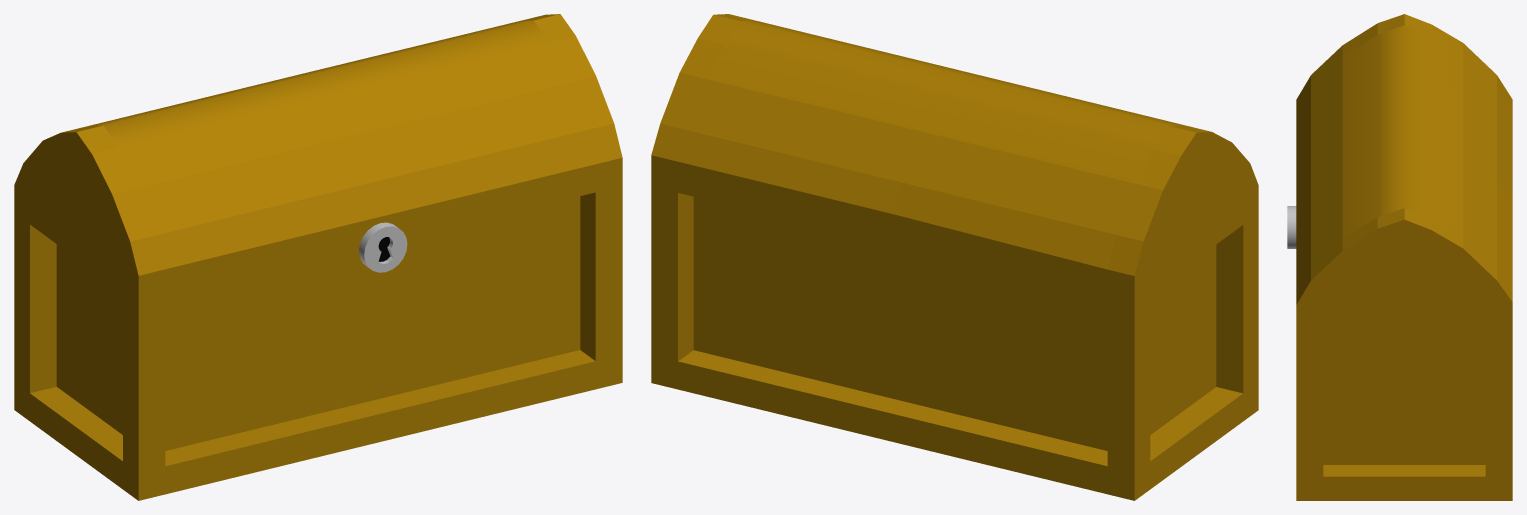
File: chest.fbx
3 renders of one model, left to right at view 1: azimuth 30°, elevation 25°; view 2: azimuth 150°, elevation 25°; view 3: azimuth 270°, elevation 25°, orthographic. The views are drawn at different scales.
Visible parts, largest first — view 1: pCube4; view 2: pCube4; view 3: pCube4.
Part boxes in pixels (x1=…): pCube4: x1=14, y1=14, x2=622, y2=500; pCube4: x1=651, y1=14, x2=1258, y2=500; pCube4: x1=1287, y1=14, x2=1512, y2=500.
Bounding box in the file's own units: 18 × 11.49 × 8.34.
